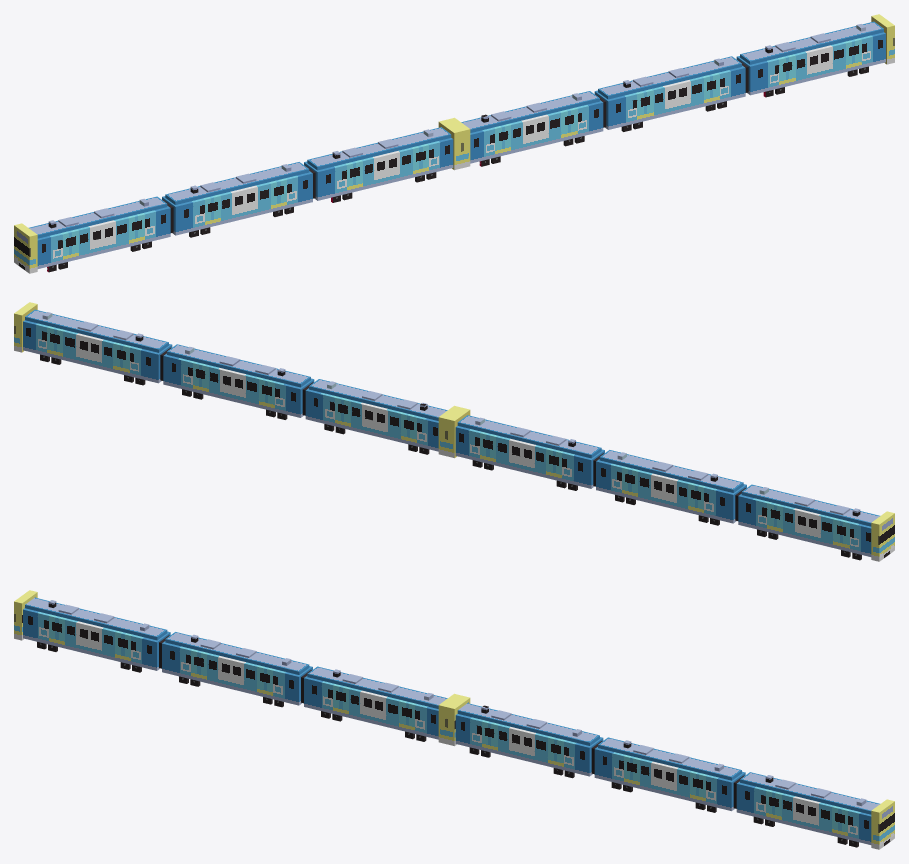
Rendered from train.gltf.
3 renders of one model, top to bottom at view 1: azimuth 30°, elevation 25°; view 2: azimuth 150°, elevation 25°; view 3: azimuth 330°, elevation 25°, orthographic.
Visible parts, largest first — view 1: cube; view 2: cube; view 3: cube.
Part boxes in pixels (left/top/right/bottom): cube: left=14, top=14, right=894, bottom=273; cube: left=14, top=302, right=894, bottom=561; cube: left=14, top=590, right=894, bottom=849.
Bounding box in the file's own units: 33.5 × 1.62 × 1.05.
Materials: 1 (1 with a texture image).
